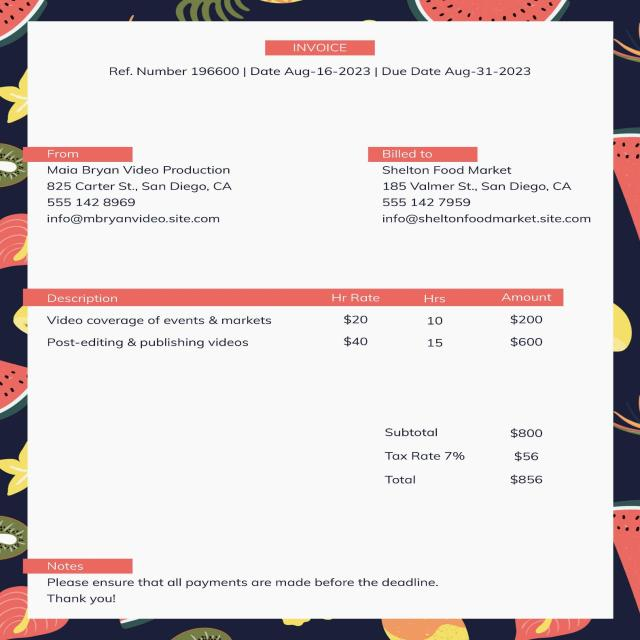paragraph: (355, 139, 604, 242), (29, 557, 461, 608), (31, 143, 260, 237), (367, 417, 568, 508), (252, 36, 382, 59), (98, 60, 244, 80), (246, 64, 372, 83), (377, 66, 545, 80)
table: (31, 289, 574, 354)
